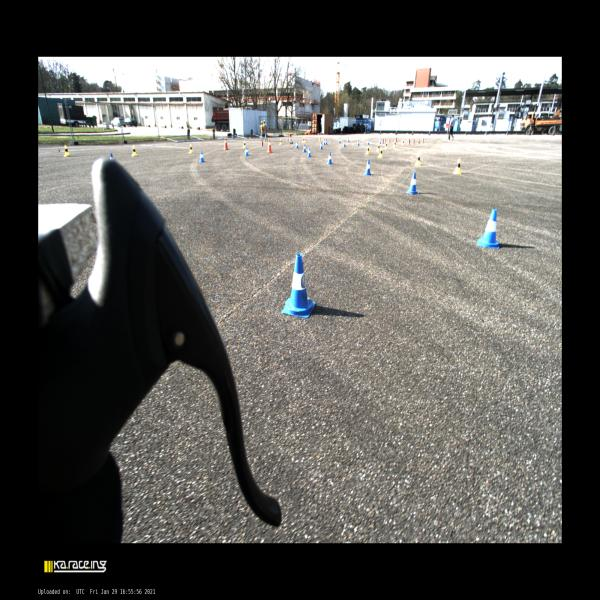blue_cone: (282, 254, 316, 318), (478, 210, 500, 250), (406, 172, 419, 194), (364, 159, 372, 175), (326, 152, 333, 164), (199, 151, 205, 162), (306, 147, 312, 157), (245, 147, 250, 156), (302, 144, 307, 152), (318, 142, 323, 150), (294, 141, 298, 148), (110, 153, 114, 160), (343, 140, 346, 147), (357, 139, 360, 146), (367, 139, 370, 145), (379, 138, 382, 144), (347, 137, 350, 142), (326, 139, 328, 145), (338, 138, 340, 143), (324, 140, 326, 144)
large_orange_cone: (267, 138, 273, 152), (223, 137, 228, 150)
yellow_cone: (453, 158, 461, 174), (64, 145, 71, 157), (414, 153, 420, 166), (132, 145, 138, 157), (378, 148, 383, 158), (188, 144, 193, 154), (365, 146, 370, 154), (279, 138, 282, 145), (243, 141, 245, 148), (377, 145, 379, 152), (385, 142, 387, 148), (394, 141, 396, 147), (402, 140, 404, 145), (302, 138, 304, 142), (304, 138, 306, 142), (319, 138, 321, 141)
